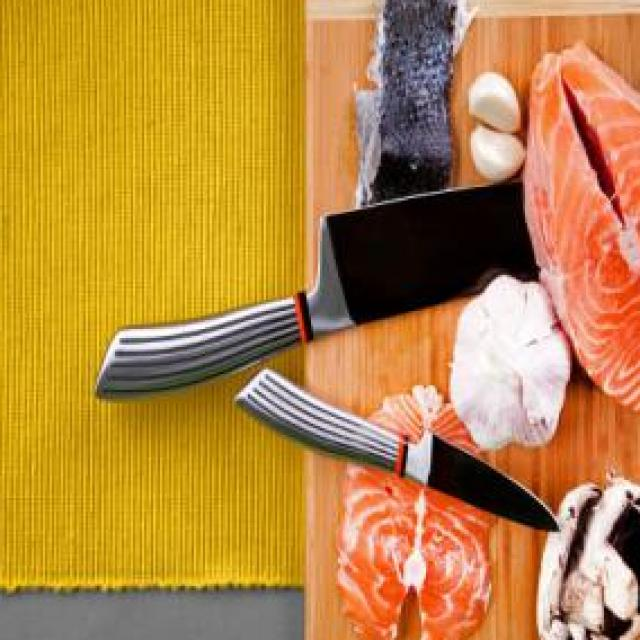knife: (232, 367, 561, 532)
